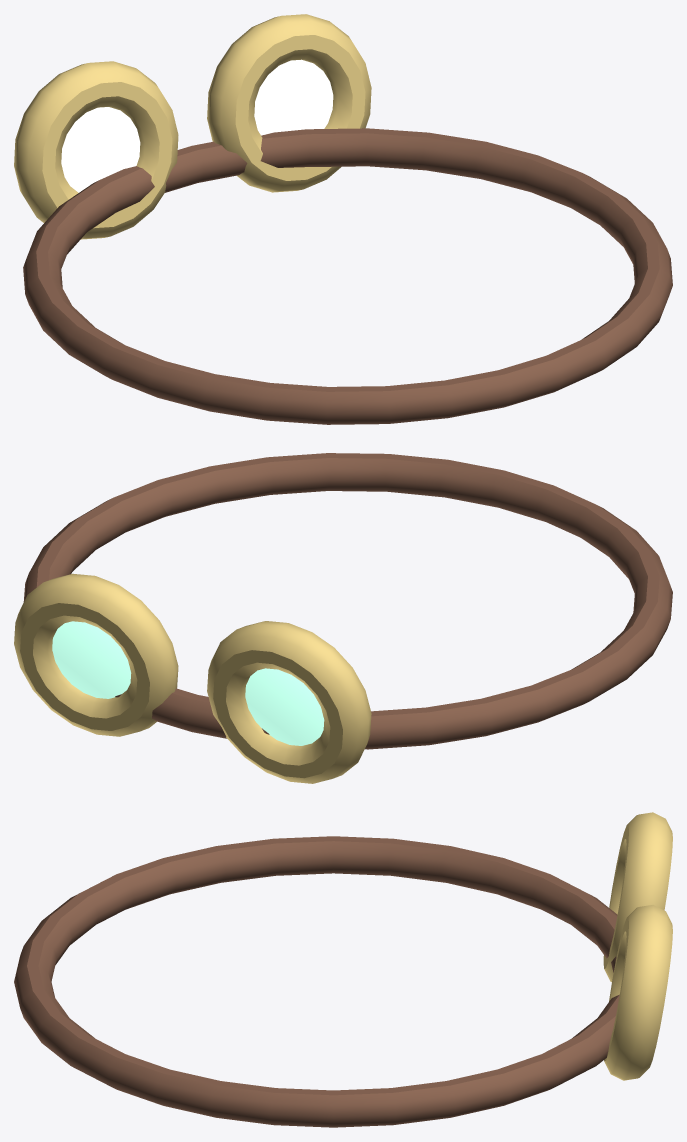
Rendered from Acc_Goggles.fbx.
3 views of the same model, one above another, from view 1: azimuth 30°, elevation 25°; view 2: azimuth 150°, elevation 25°; view 3: azimuth 270°, elevation 25° (orthographic).
Visible parts, largest first — view 1: Goggle_Band, Goggle_Rim, Goggle_Rim.001, Goggle_Lens.001, Goggle_Lens; view 2: Goggle_Band, Goggle_Rim.001, Goggle_Rim, Goggle_Lens, Goggle_Lens.001; view 3: Goggle_Band, Goggle_Rim, Goggle_Rim.001.
Boxes of the visible parts, x1,y1,x2,y2 form: Goggle_Band: [23, 128, 672, 424]; Goggle_Rim: [207, 14, 371, 192]; Goggle_Rim.001: [14, 61, 178, 239]; Goggle_Lens.001: [61, 107, 140, 192]; Goggle_Lens: [254, 59, 333, 135]; Goggle_Band: [23, 453, 672, 749]; Goggle_Rim.001: [207, 621, 371, 783]; Goggle_Rim: [14, 573, 178, 736]; Goggle_Lens: [52, 621, 131, 698]; Goggle_Lens.001: [245, 668, 324, 745]; Goggle_Band: [14, 836, 619, 1127]; Goggle_Rim: [604, 905, 672, 1080]; Goggle_Rim.001: [603, 812, 672, 982].
Size of the model in its own units: 81.8 by 22.65 by 84.35.
